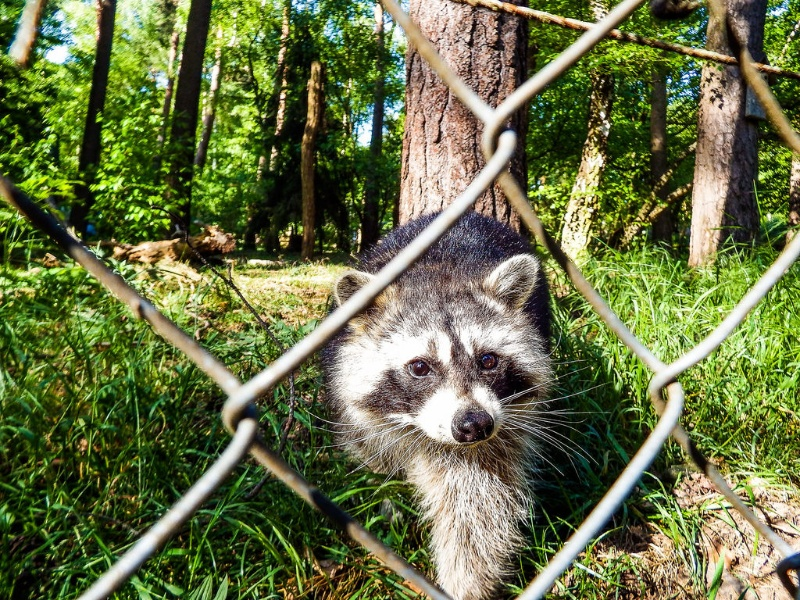raccoon: (317, 201, 567, 598)
